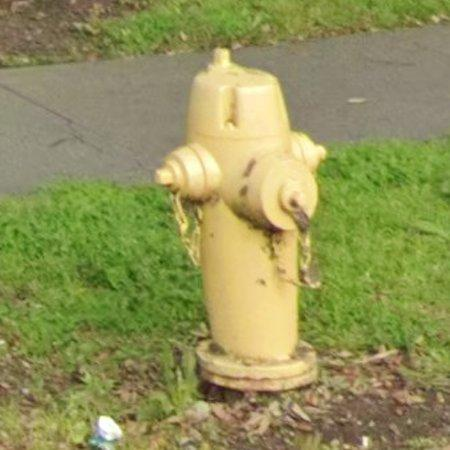a fire hydrant: (155, 48, 326, 392)
